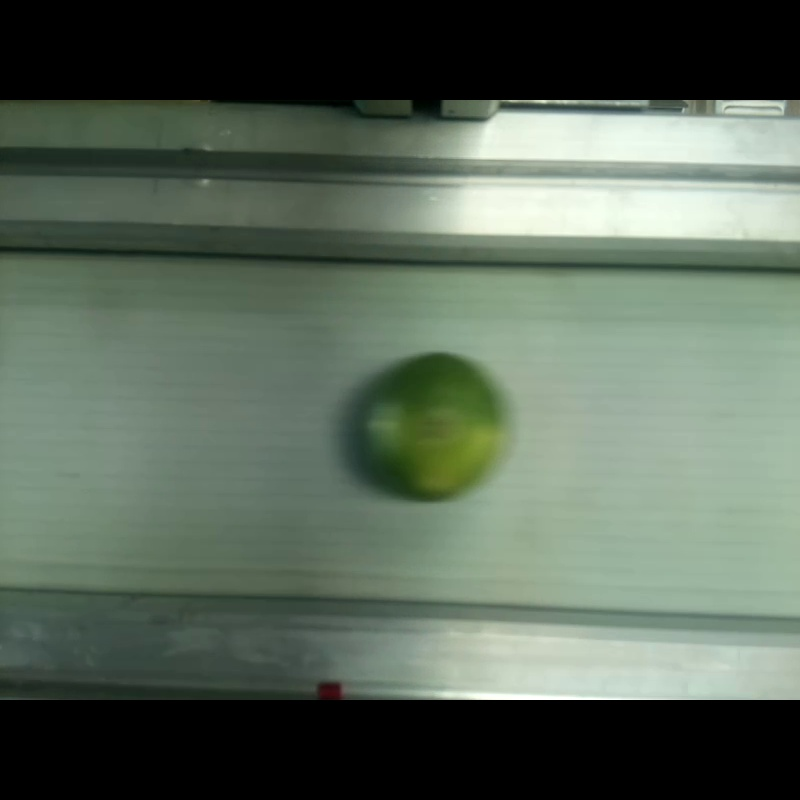lime: (356, 351, 505, 503)
